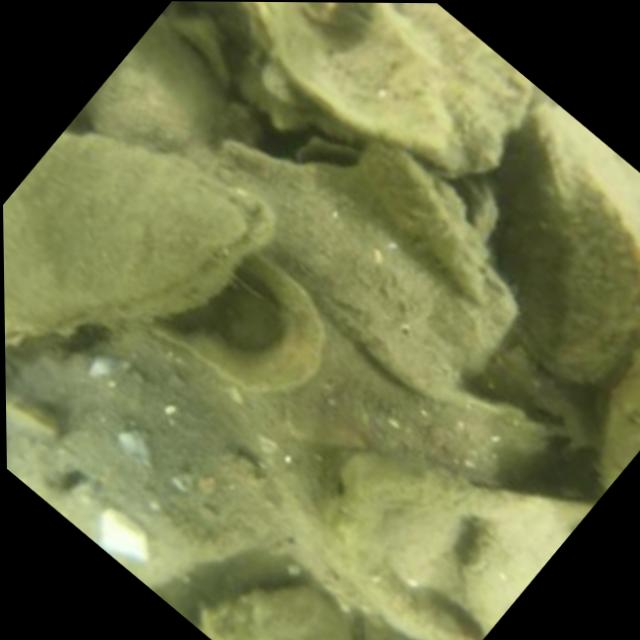Oyster-Closed: (3, 133, 281, 348)
Oyster-Indeterminate: (215, 141, 514, 399), (6, 352, 275, 593), (320, 451, 595, 640), (239, 2, 528, 180), (497, 120, 640, 387), (137, 247, 331, 403), (462, 495, 589, 638), (88, 19, 221, 150), (208, 586, 354, 640), (597, 349, 640, 499)
